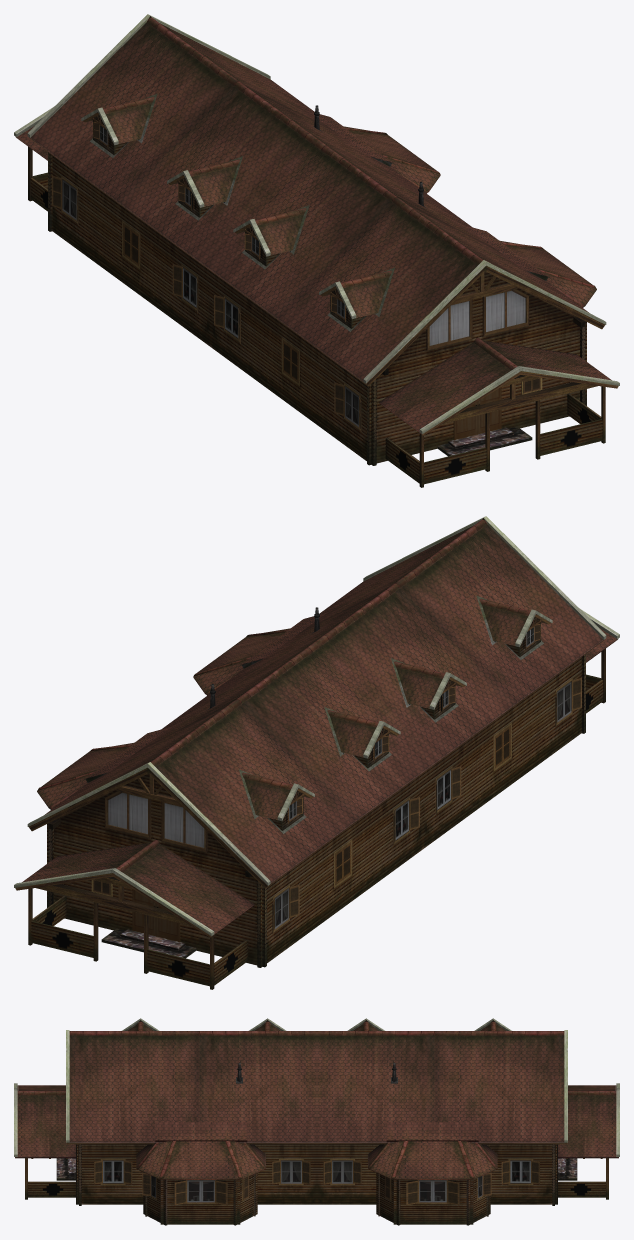
Rendered from house1.obj.
The picture shows the model from 3 angles, top to bottom: view 1: azimuth 30°, elevation 25°; view 2: azimuth 150°, elevation 25°; view 3: azimuth 270°, elevation 25°; orthographic projection. The views are drawn at different scales.
Visible parts, largest first — view 1: City_building_014.001; view 2: City_building_014.001; view 3: City_building_014.001.
Part boxes in pixels (bbox=[...]): City_building_014.001: bbox=[14, 14, 619, 487]; City_building_014.001: bbox=[14, 516, 619, 989]; City_building_014.001: bbox=[14, 1018, 619, 1225].
Size of the model in its own units: 1.98 by 1.18 by 4.76.
Materials: 1 (1 with a texture image).
